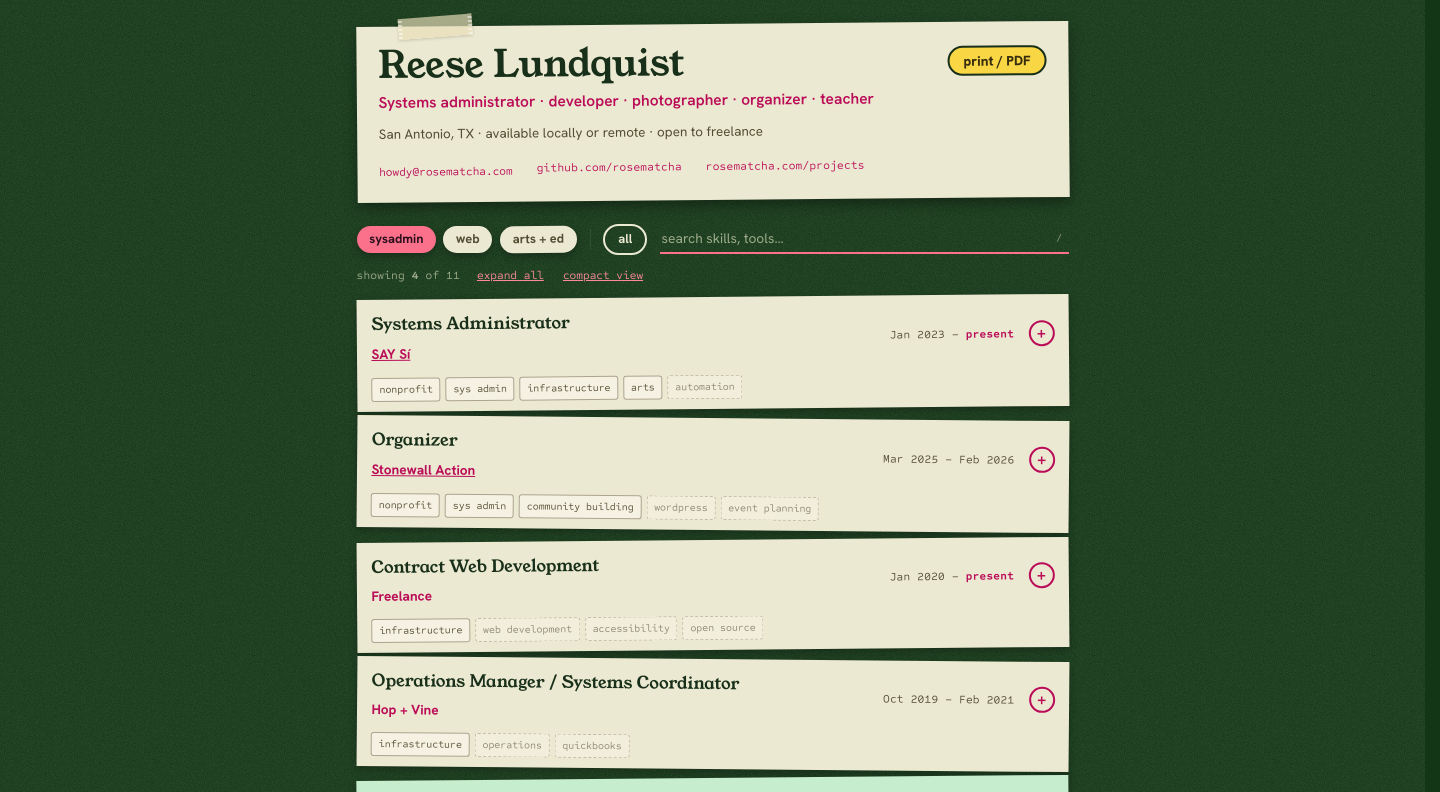
ResumePage skills › brings back a lens-hidden group when the search matches inside it
This screenshot has width=1440, height=792.
Type "curriculum design" into the field named "Search resume". click: (864, 239)
box: [660,225,1068,254]
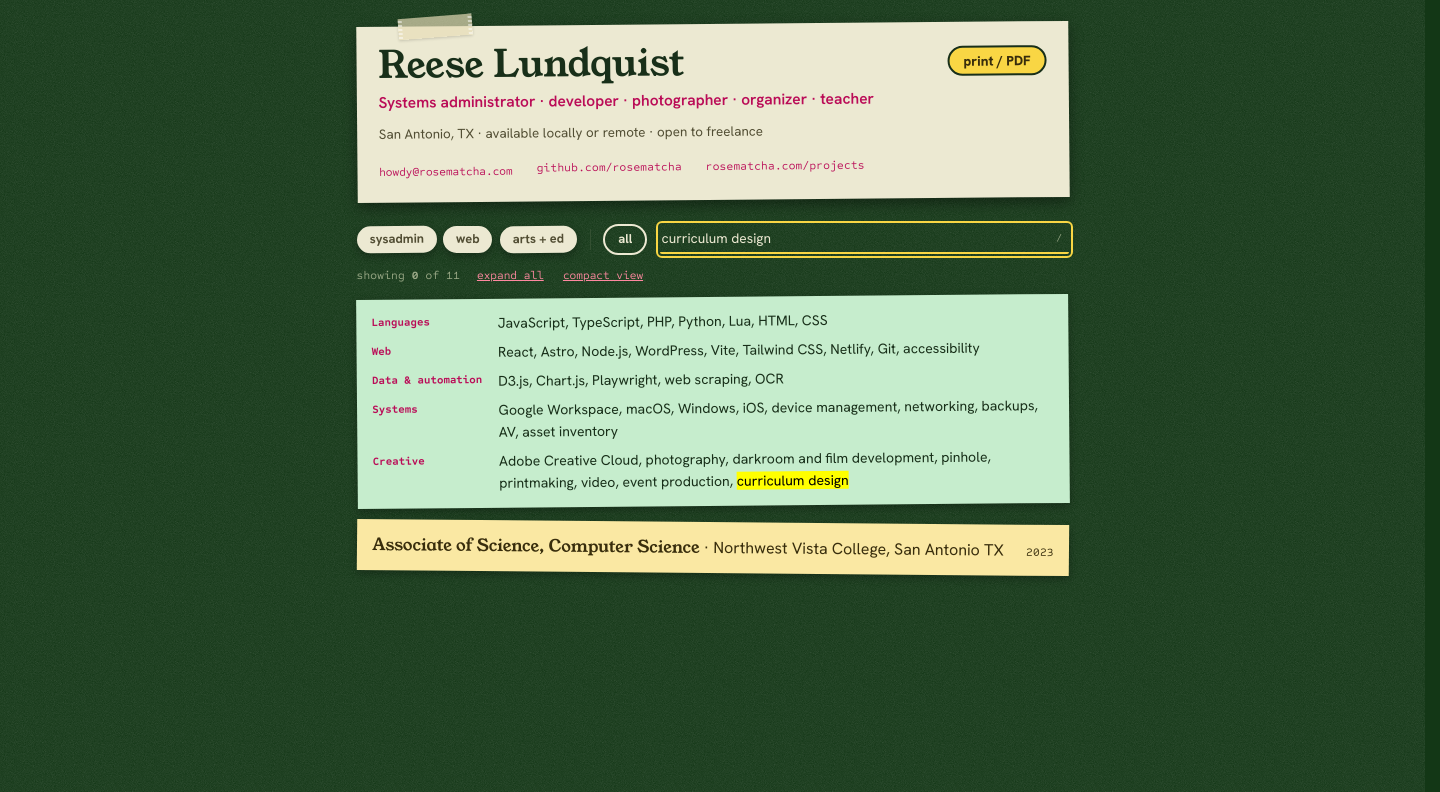
Check: the text "Creative" is shown, box [372,454,424,468]
Check: the text "curriculum design" is shown, box [736,471,848,490]
